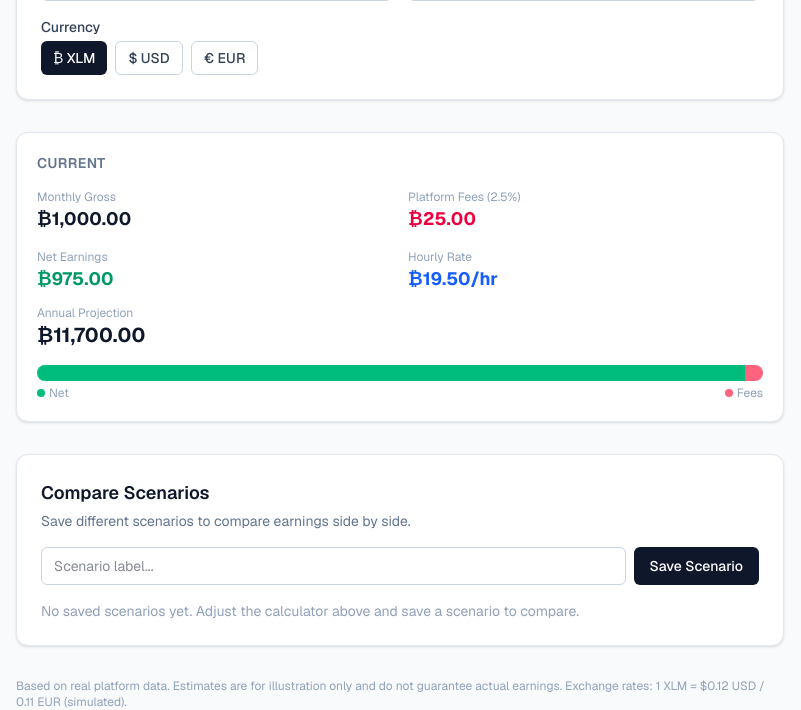
EarningsEstimatorPage › allows removing saved scenarios
(page scrolled)
Type "Remove Me" into the field with placeholder "Scenario label...".
click(333, 566); type("Remove Me")  # box [41,547,626,585]
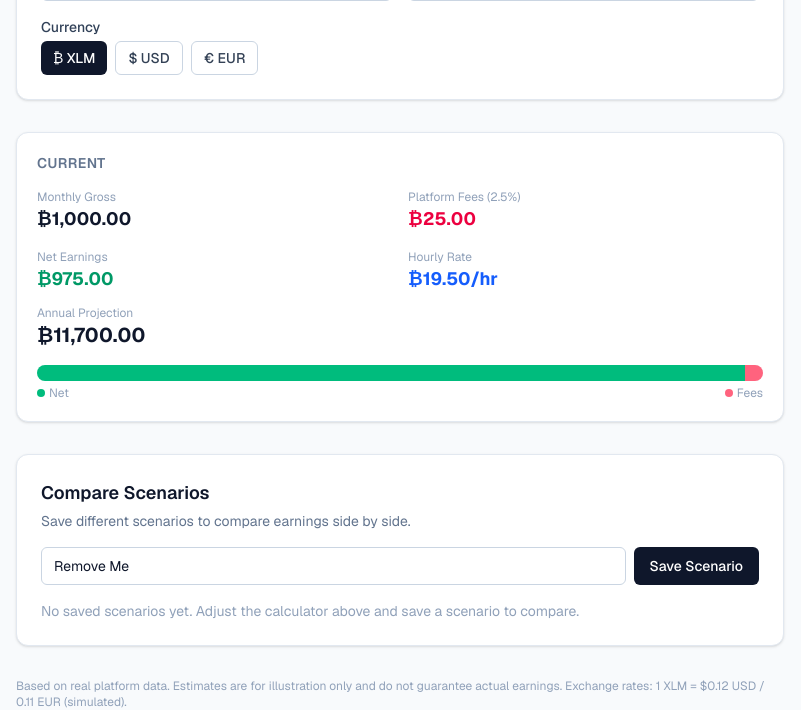
Click the button "Save Scenario".
click(696, 566)  # box [634,547,759,585]
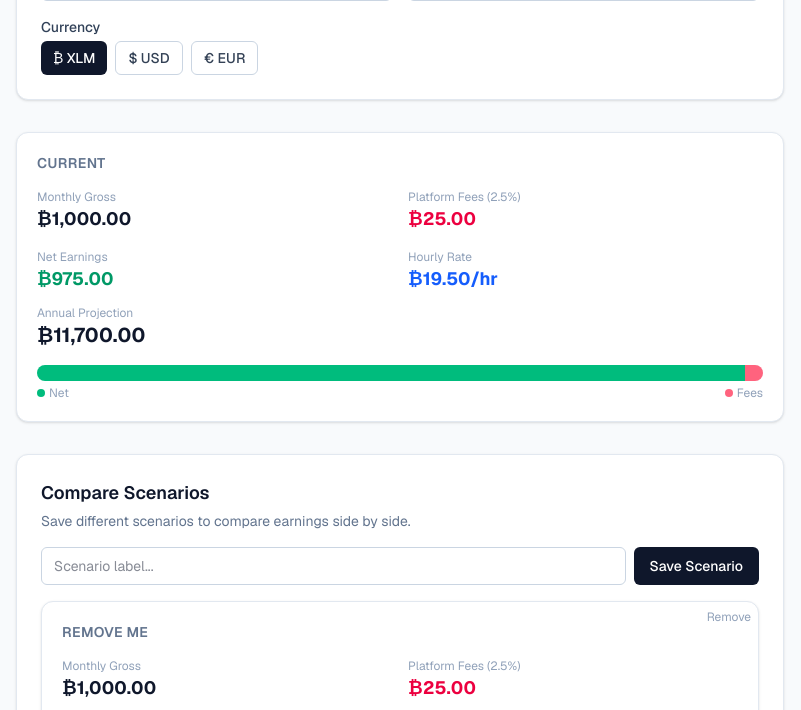
expect the heading "Remove Me" is shown: met, box [62,623,148,641]
Click the button with aria-label "Delete Remove Me".
click(729, 617)  # box [707,609,751,625]
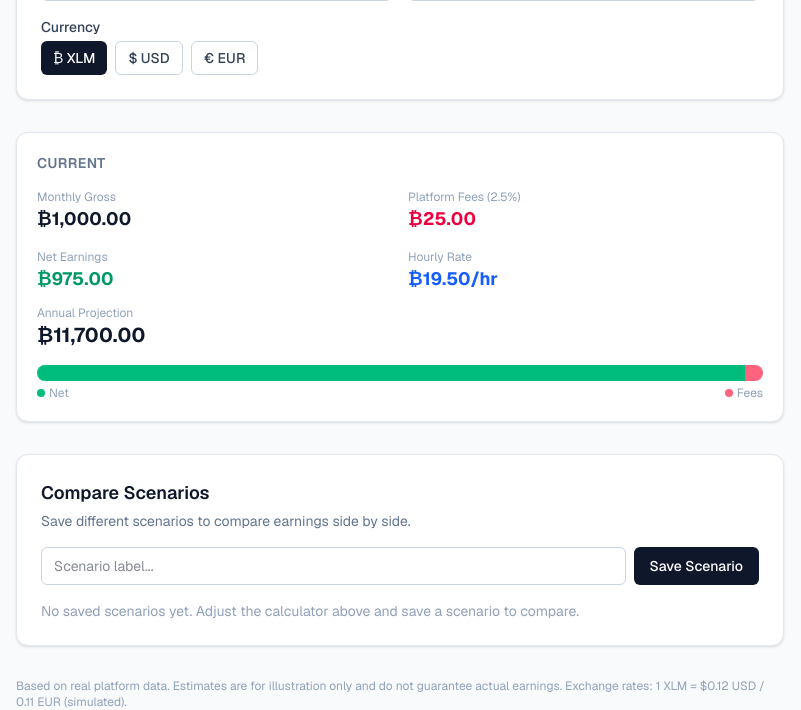
expect the heading "Remove Me" is gone: met
